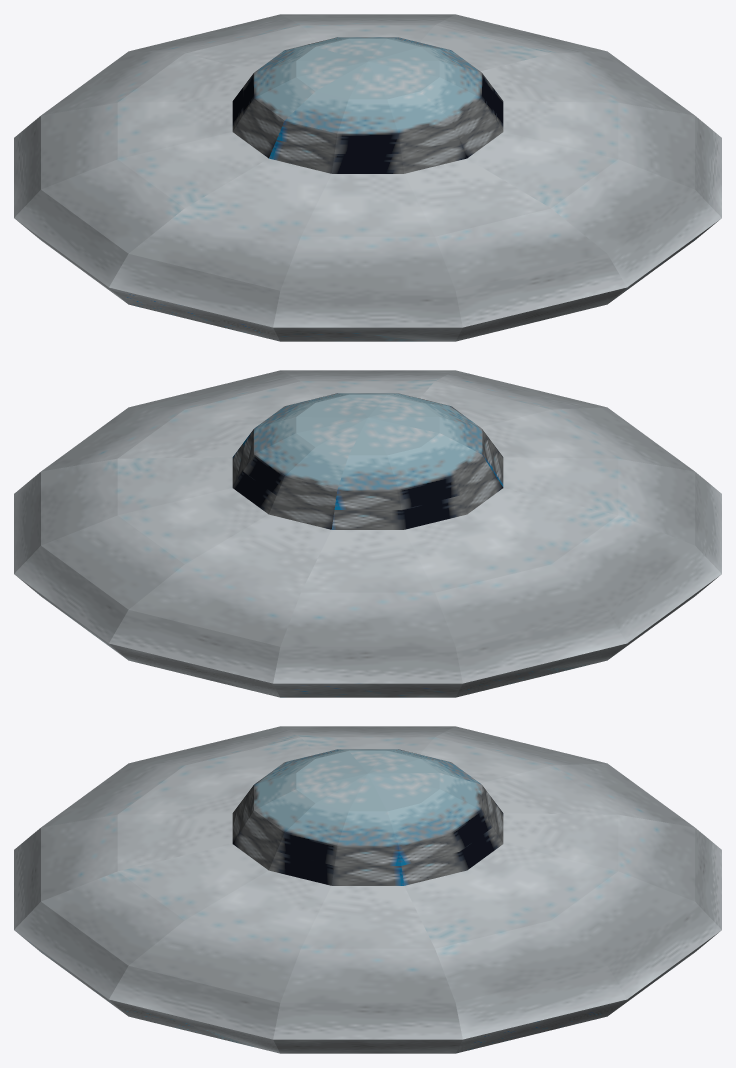
The model's file is ObniRealTexturas.fbx.
3 renders of one model, top to bottom at view 1: azimuth 30°, elevation 25°; view 2: azimuth 150°, elevation 25°; view 3: azimuth 270°, elevation 25°, orthographic.
Parts seen in each view (by area): view 1: Low_Poly_UFO_001; view 2: Low_Poly_UFO_001; view 3: Low_Poly_UFO_001.
Part boxes in pixels (x1,y1,x2,y2): Low_Poly_UFO_001: (14,14,721,341); Low_Poly_UFO_001: (14,370,721,697); Low_Poly_UFO_001: (14,726,721,1053).
Size of the model in its own units: 580 by 580 by 177.
Materials: 1 (1 with a texture image).
